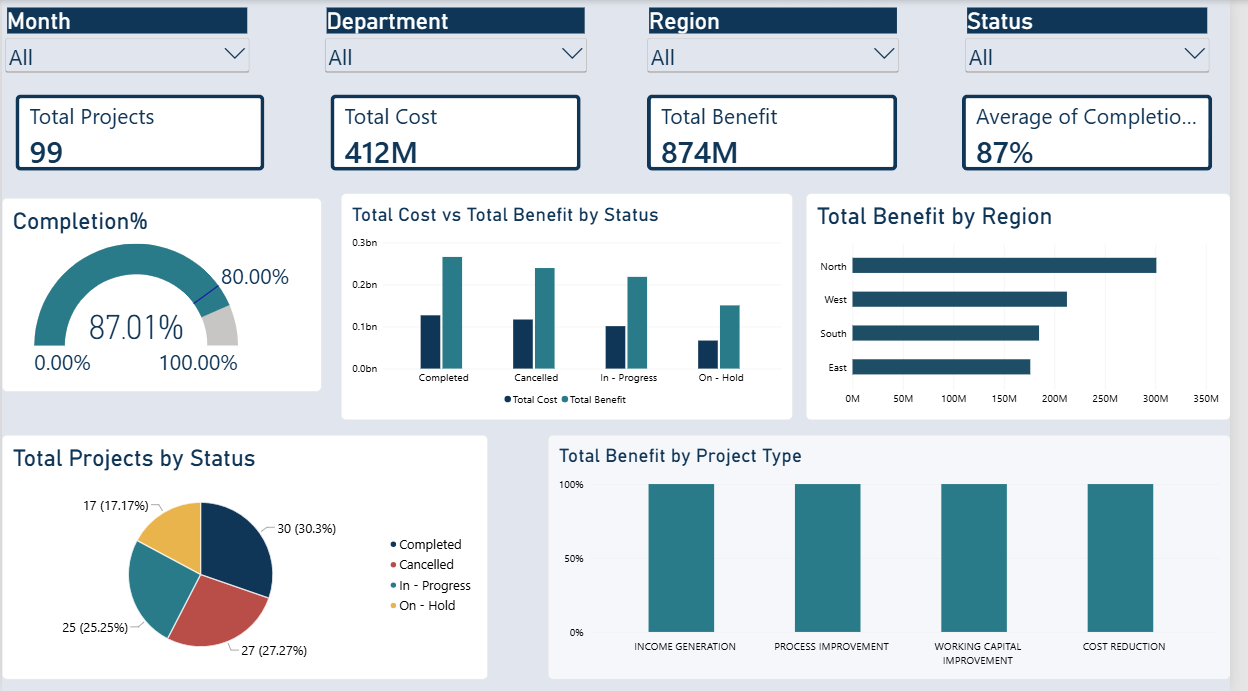

Layout of this report page (visuals, bound fields, positions):
{"tool":"powerbi","page":{"name":"Page 2","canvas":[1920,1080],"ordinal":0},"visuals":[{"type":"cardVisual","fields":{"Data":["Project Management.Total Projects"]},"box":[21.1,147.7,389.2,119.6],"z":0},{"type":"slicer","fields":{"Values":["Project Management.Month"]},"box":[0,11.7,391.5,105.5],"z":1000},{"type":"cardVisual","fields":{"Data":["Project Management.Total Cost"]},"box":[513.4,147.7,391.5,119.6],"z":2000},{"type":"cardVisual","fields":{"Data":["Project Management.Total Benefit"]},"box":[1008.1,147.7,391.5,119.6],"z":3000},{"type":"cardVisual","fields":{"Data":["Avg(Project Management.Completion%)"]},"box":[1500.5,147.7,391.5,119.6],"z":4000},{"type":"slicer","fields":{"Values":["Project Management.Department"]},"box":[499.4,11.7,419.7,124.3],"z":5000},{"type":"slicer","fields":{"Values":["Project Management.Region"]},"box":[1003.4,11.7,403.3,105.5],"z":6000},{"type":"slicer","fields":{"Values":["Project Management.Status"]},"box":[1500.5,11.7,391.5,110.2],"z":7000},{"type":"gauge","title":"Completion%","fields":{"Y":["Project Management.Avg Completion%"]},"box":[0,309.5,499.4,302.4],"z":8000},{"type":"pieChart","title":"Total Projects by Status","fields":{"Category":["Project Management.Status"],"Y":["Project Management.Total Projects"]},"box":[0,679.9,759.6,382.2],"z":9000},{"type":"clusteredColumnChart","title":"Total Cost vs Total Benefit by Status","fields":{"Category":["Project Management.Status"],"Y":["Project Management.Total Cost","Project Management.Total Benefit"]},"box":[529.9,302.4,705.7,354],"z":10000},{"type":"barChart","title":"Total Benefit by Region","fields":{"Category":["Project Management.Region"],"Y":["Project Management.Total Benefit"]},"box":[1256.6,302.4,663.5,354],"z":11000},{"type":"hundredPercentStackedColumnChart","title":"Total Benefit by Project Type","fields":{"Category":["Project Management.Project Type"],"Y":["Project Management.Total Benefit"]},"box":[853.4,679.9,1066.7,382.2],"z":12000}]}

Visuals, with their boxes in screenshot pixels (x1, y1, x2, y2), scaled from the page's 1920x1080 canvas onto the 1248x691 screenshot:
cardVisual - Project Management.Total Projects: box(14, 95, 267, 171)
slicer - Project Management.Month: box(0, 7, 254, 75)
cardVisual - Project Management.Total Cost: box(334, 95, 588, 171)
cardVisual - Project Management.Total Benefit: box(655, 95, 910, 171)
cardVisual - Avg(Project Management.Completion%): box(975, 95, 1230, 171)
slicer - Project Management.Department: box(325, 7, 597, 87)
slicer - Project Management.Region: box(652, 7, 914, 75)
slicer - Project Management.Status: box(975, 7, 1230, 78)
"Completion%" gauge: box(0, 198, 325, 392)
"Total Projects by Status" pieChart: box(0, 435, 494, 680)
"Total Cost vs Total Benefit by Status" clusteredColumnChart: box(344, 193, 803, 420)
"Total Benefit by Region" barChart: box(817, 193, 1247, 420)
"Total Benefit by Project Type" hundredPercentStackedColumnChart: box(555, 435, 1247, 680)
